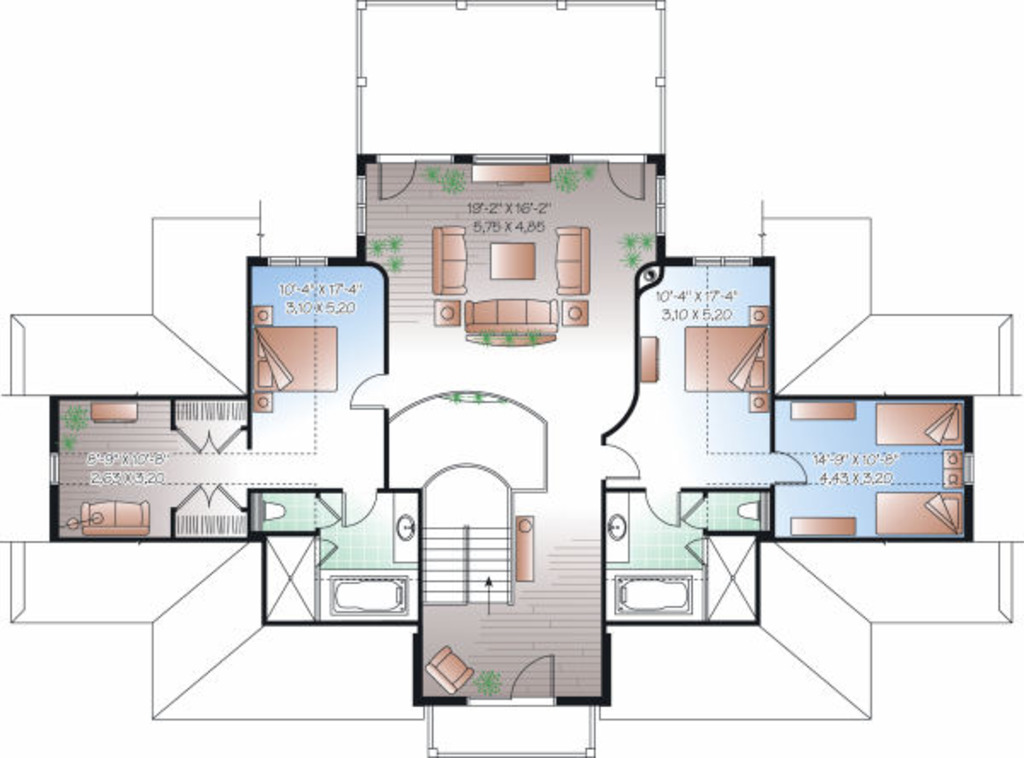bed: (252, 323, 338, 396), (680, 323, 770, 391), (871, 398, 968, 452), (874, 490, 968, 542)
door: (509, 652, 559, 701), (172, 482, 239, 516), (172, 427, 247, 457), (605, 159, 648, 204), (602, 439, 644, 483), (643, 485, 684, 530), (373, 160, 419, 200), (341, 487, 380, 529), (348, 373, 386, 412), (773, 450, 810, 485)
large_sink: (728, 498, 764, 525), (258, 499, 287, 522)
large_sofa: (465, 293, 563, 339), (551, 223, 592, 297), (79, 499, 152, 537), (432, 224, 469, 297)
small_sink: (604, 489, 631, 565), (392, 489, 418, 563)
small_sofa: (427, 642, 474, 695)
stairs: (419, 462, 518, 609)
tub: (612, 574, 692, 615), (330, 577, 408, 617)
windows: (468, 151, 550, 167), (267, 255, 331, 269), (653, 175, 667, 234), (692, 255, 750, 266)
